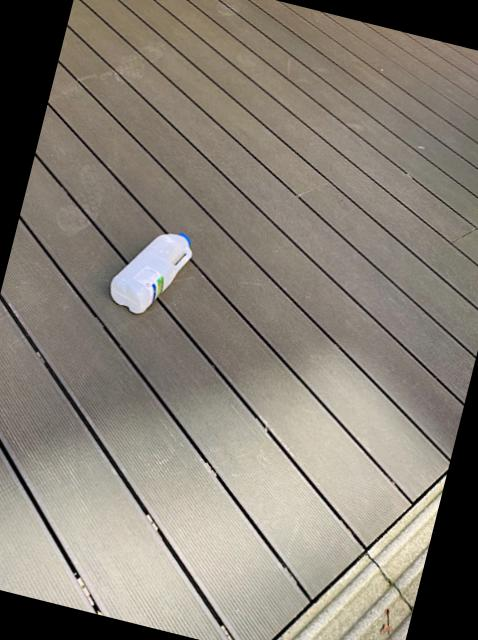plastic: (109, 231, 190, 311)
